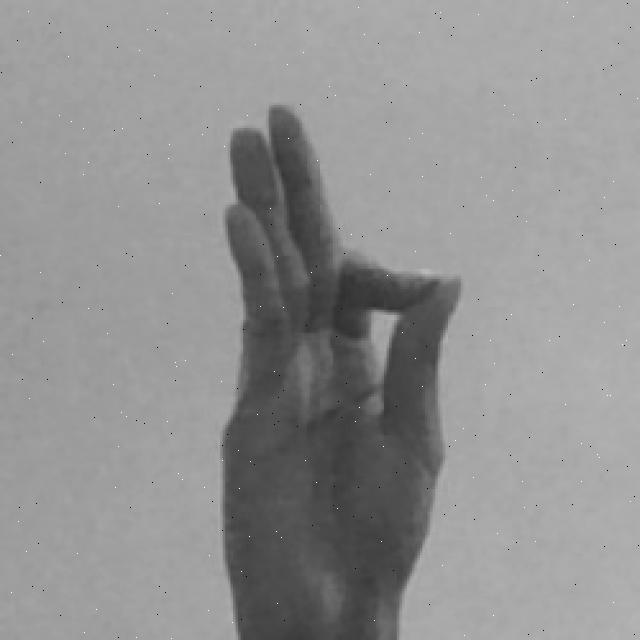F: (214, 99, 465, 640)
